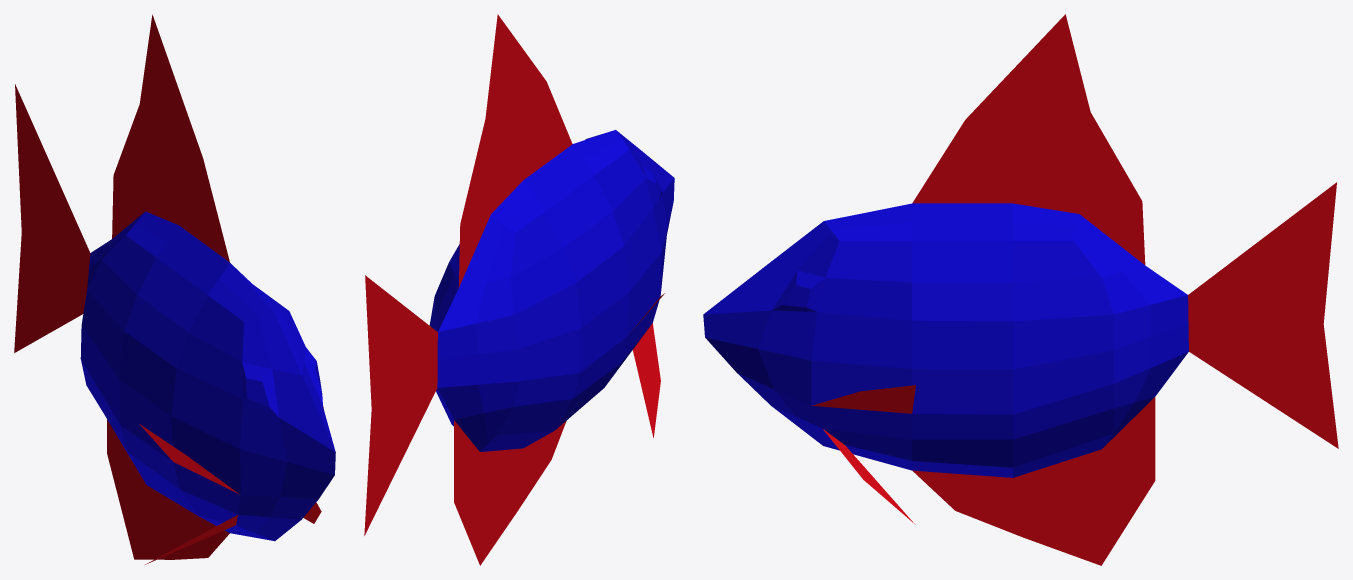
The model's file is unradiatedfish2.fbx.
The picture shows the model from 3 angles, left to right: view 1: azimuth 30°, elevation 25°; view 2: azimuth 150°, elevation 25°; view 3: azimuth 270°, elevation 25°; orthographic projection. The views are drawn at different scales.
Parts seen in each view (by area): view 1: Cube; view 2: Cube; view 3: Cube.
Boxes of the visible parts, bbox=[...] form: Cube: bbox=[14, 14, 335, 564]; Cube: bbox=[364, 14, 674, 565]; Cube: bbox=[703, 14, 1338, 565].
Bounding box in the file's own units: 135 × 402 × 420.
